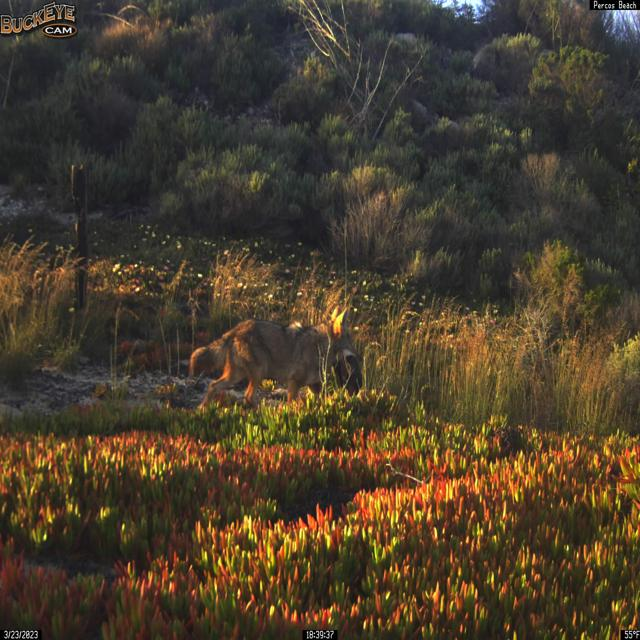coyote: (188, 305, 365, 414)
